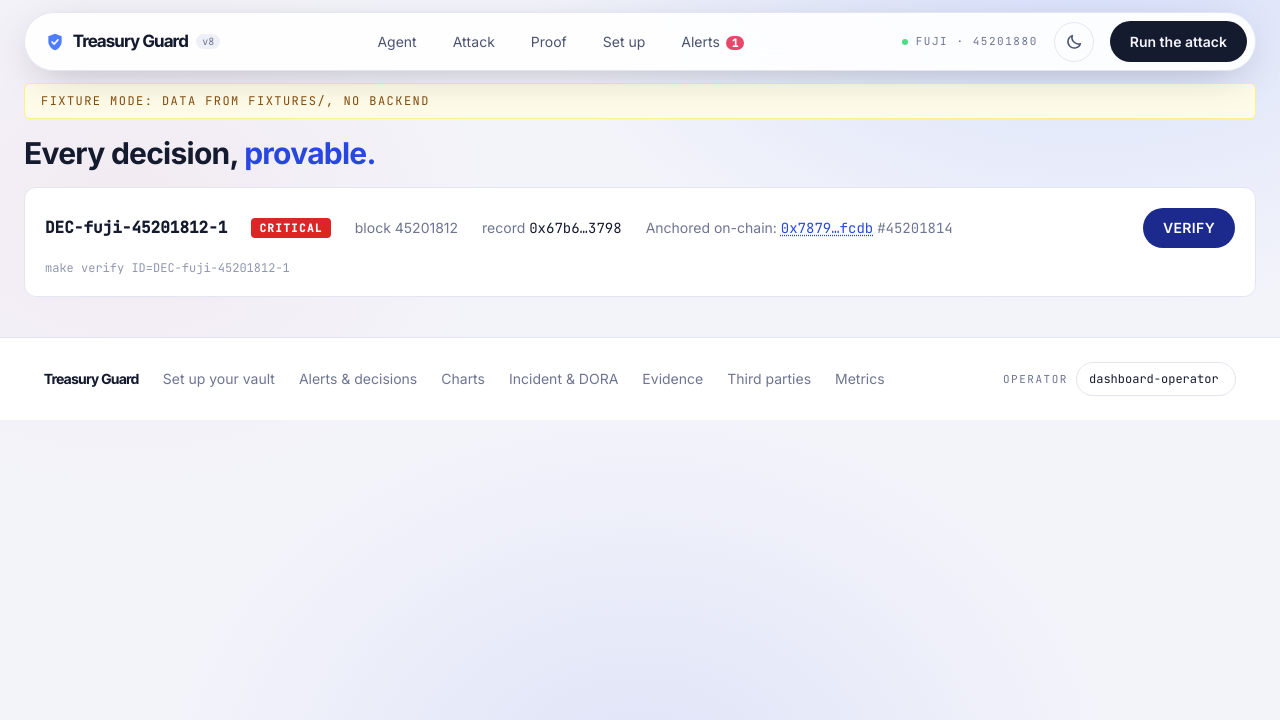
Evidence (T6-11) › verify shows MATCH from fixture
The image size is (1280, 720).
Click the button "Verify".
click(1189, 228)  # box [1143, 208, 1235, 248]
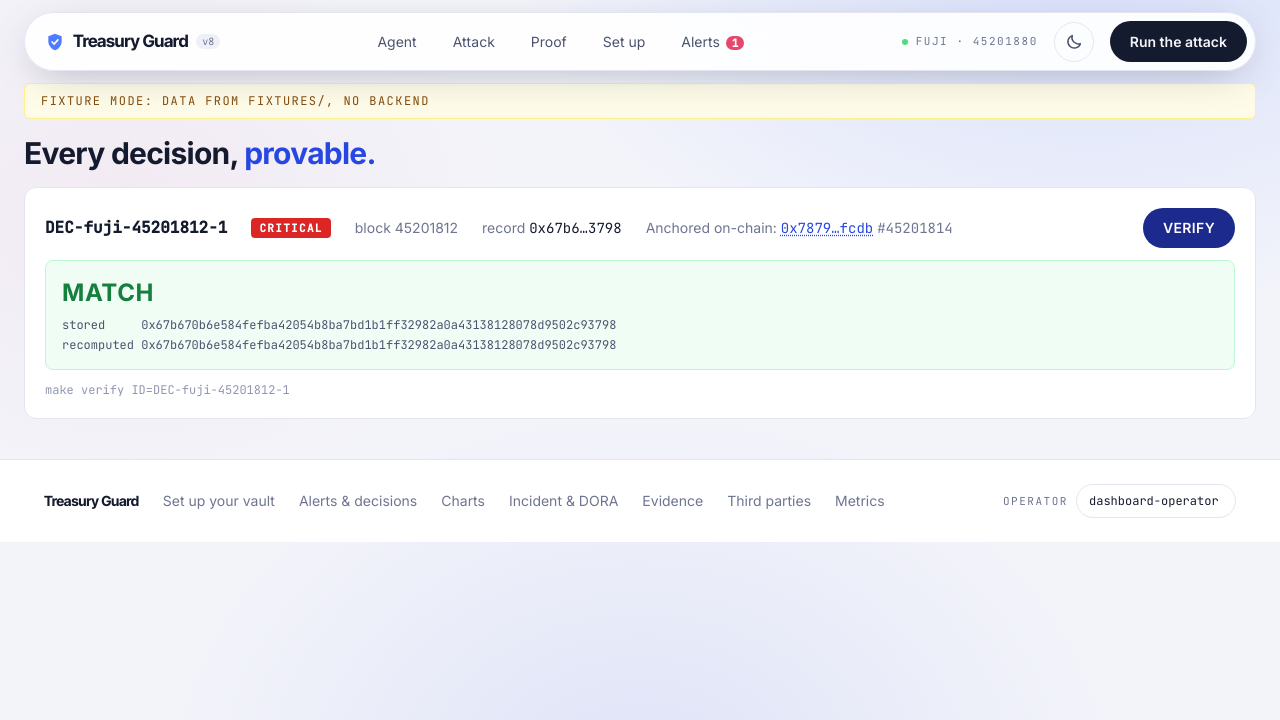
Check: the element with test id "verify-result" shows "MATCH", box [62, 278, 154, 307]
